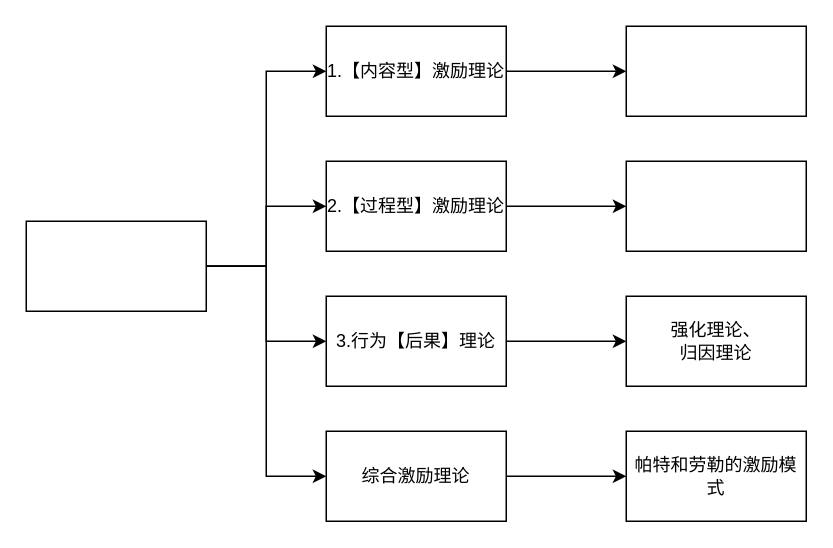
Image size: 833x548. Some labels were removed from this diagram. Here are the shapes that lost their labels. From the top down, the centre of each, then its label:
the point at 715,70: 层次需求理论、 双因素理论
the point at 715,205: 期望理论、 公平理论
the point at 115,265: 激励理论
